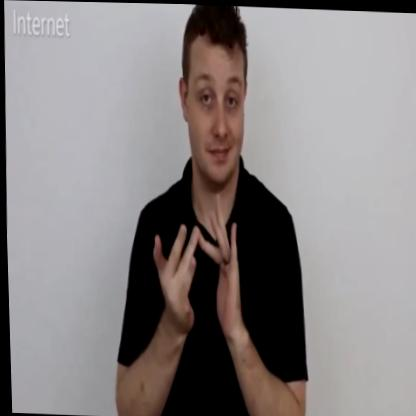Internet: (106, 2, 313, 416)
